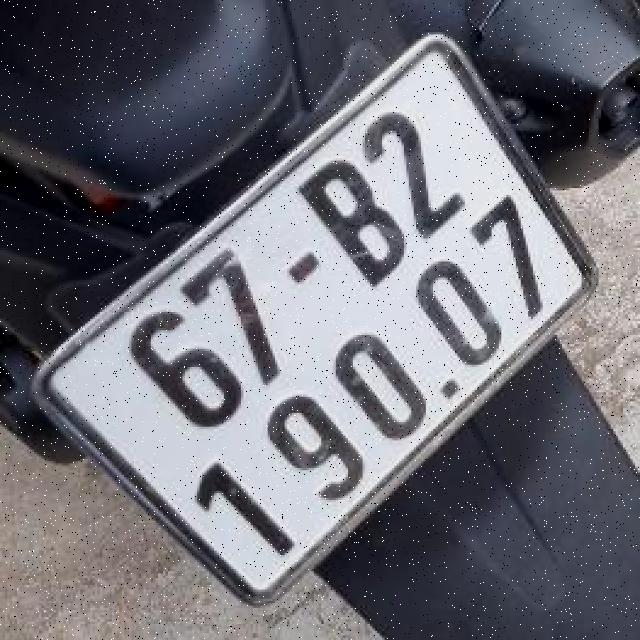0: (308, 319, 442, 461), (396, 240, 521, 386)
1: (171, 443, 319, 579)
2: (343, 86, 487, 261)
6: (109, 298, 259, 450)
7: (165, 242, 290, 411), (454, 180, 573, 341)
9: (244, 372, 392, 522)
B: (280, 141, 427, 302)
